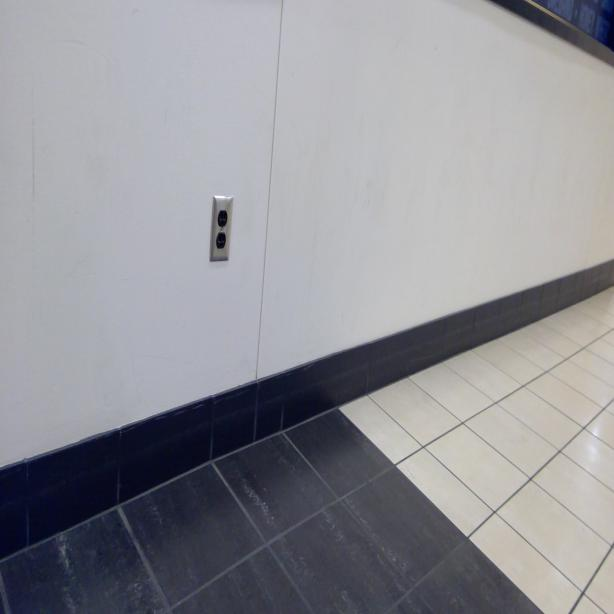typeb: (218, 208, 228, 228), (216, 234, 226, 249)
